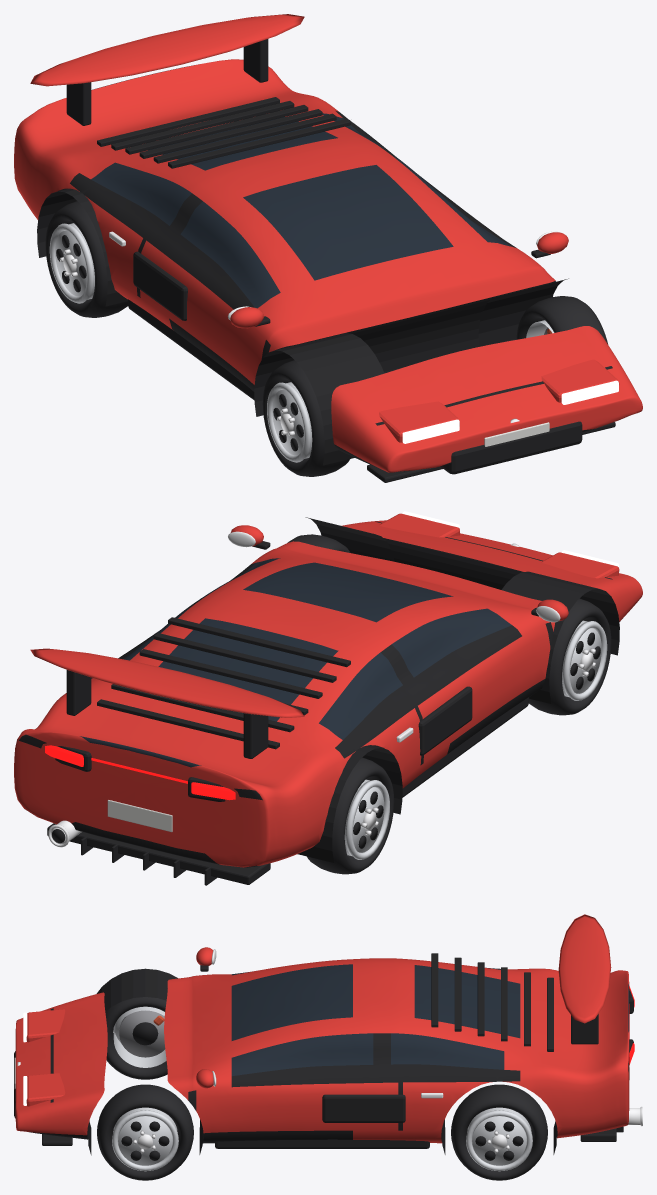
Rendered from strato_mid.glb.
3 renders of one model, top to bottom at view 1: azimuth 30°, elevation 25°; view 2: azimuth 150°, elevation 25°; view 3: azimuth 270°, elevation 25°, orthographic. The views are drawn at different scales.
Parts seen in each view (by area): view 1: body, wheel_fr, wheel_rr, wheel_fl; view 2: body, wheel_rr, wheel_fr, wheel_fl; view 3: body, wheel_fl, wheel_rl, wheel_fr.
Part boxes in pixels (bbox=[...]): body: bbox=[14, 14, 642, 482]; wheel_fr: bbox=[262, 360, 349, 476]; wheel_rr: bbox=[45, 201, 127, 317]; wheel_fl: bbox=[516, 296, 608, 344]; body: bbox=[14, 511, 642, 885]; wheel_rr: bbox=[307, 757, 394, 874]; wheel_fr: bbox=[529, 598, 611, 715]; wheel_fl: bbox=[287, 534, 350, 552]; body: bbox=[14, 914, 642, 1155]; wheel_fl: bbox=[97, 1084, 193, 1180]; wheel_rl: bbox=[451, 1084, 547, 1180]; wheel_fr: bbox=[105, 997, 167, 1079].
Bounding box in the file's own units: 2.28 × 1.28 × 4.53.
